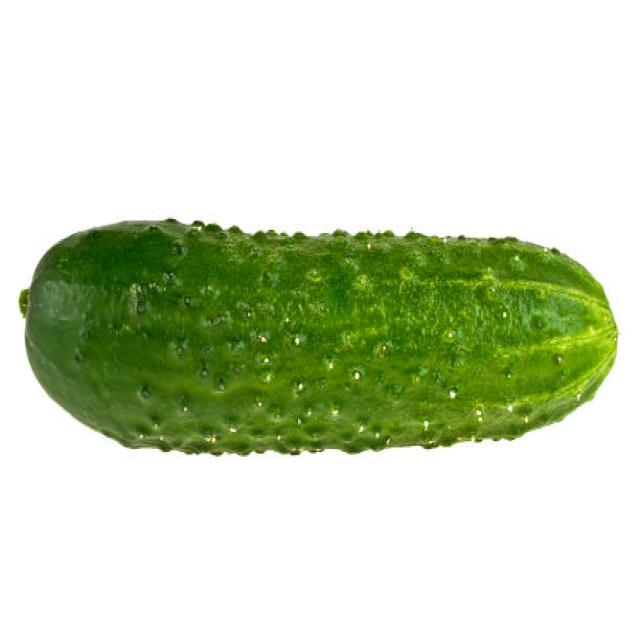cucumber: (24, 222, 618, 457)
